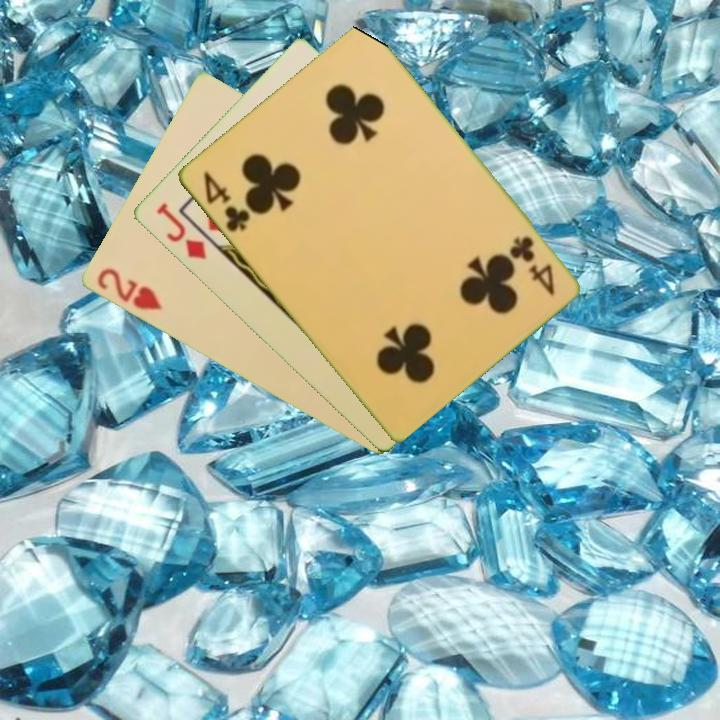2h: (92, 264, 165, 314)
4c: (199, 167, 253, 235), (505, 232, 558, 299)
Jd: (152, 199, 209, 263)
